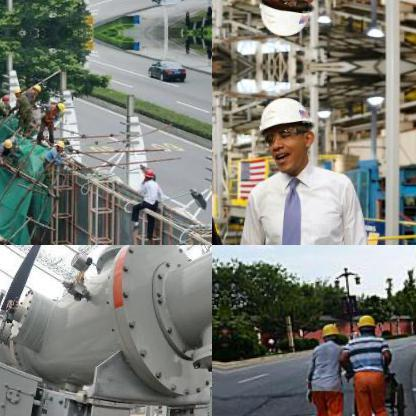Helmet: (247, 87, 322, 164), (246, 0, 324, 44), (320, 318, 338, 343), (354, 312, 374, 334), (50, 136, 66, 152), (0, 135, 14, 151), (49, 98, 65, 112), (140, 165, 154, 179), (10, 84, 24, 98), (30, 80, 42, 96), (0, 91, 9, 104)
